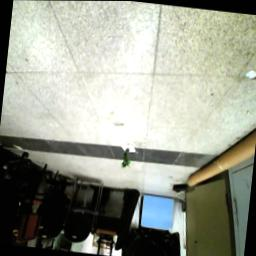herb: (122, 148, 133, 170)
